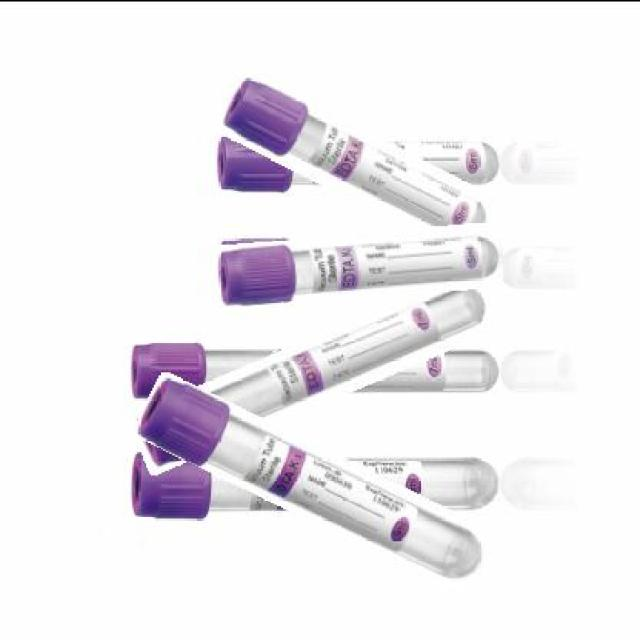Experimental-tube: (130, 407, 499, 556), (126, 304, 499, 439), (216, 99, 502, 228), (216, 226, 504, 303)
